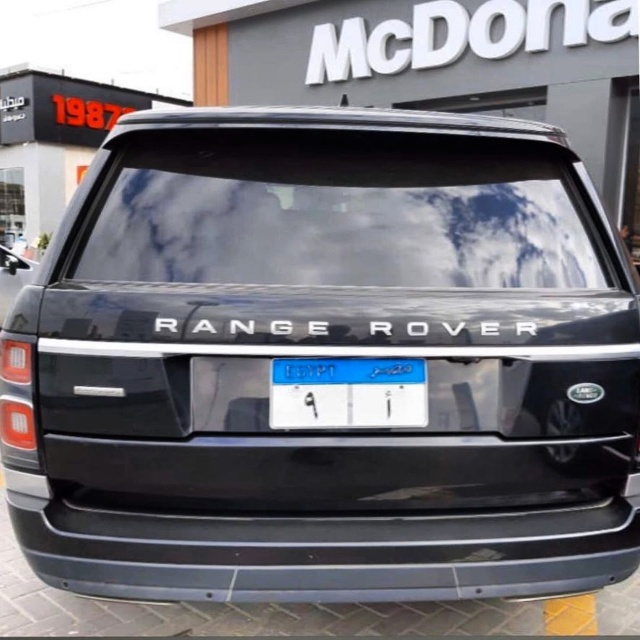License Plate: (262, 352, 437, 433)
